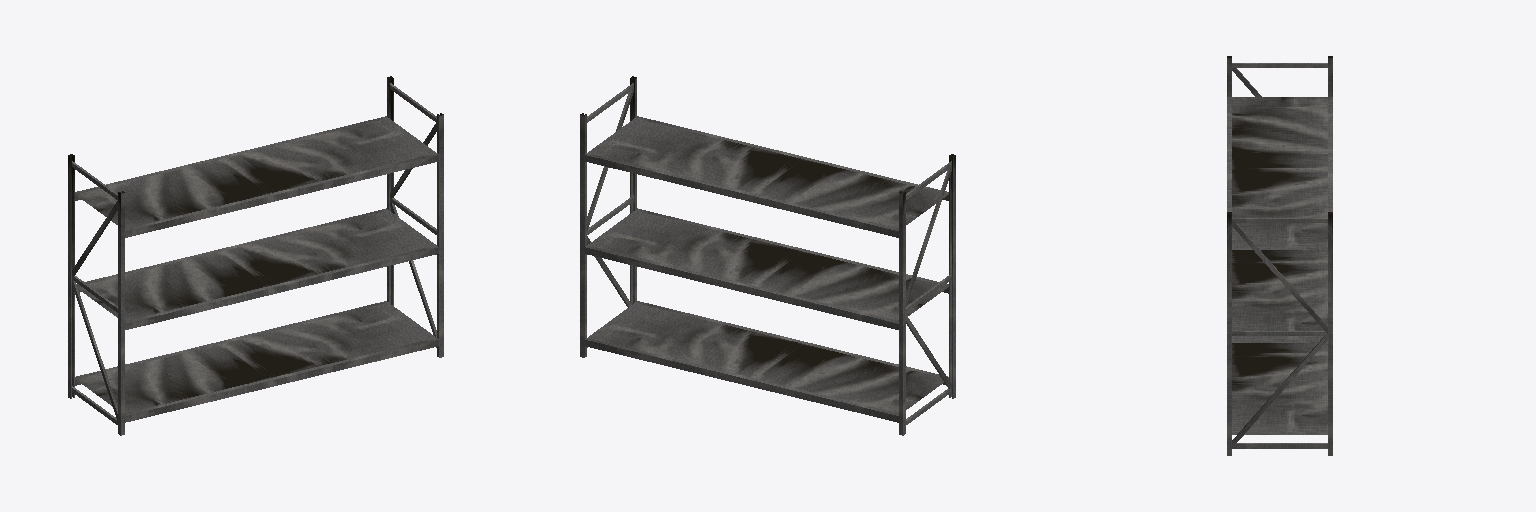
3 views of the same model, side by side, from view 1: azimuth 30°, elevation 25°; view 2: azimuth 150°, elevation 25°; view 3: azimuth 270°, elevation 25° (orthographic).
Visible parts, largest first — view 1: Shelf_WarehouseShelfMaterial_0; view 2: Shelf_WarehouseShelfMaterial_0; view 3: Shelf_WarehouseShelfMaterial_0.
Boxes of the visible parts, x1=… form: Shelf_WarehouseShelfMaterial_0: x1=68, y1=76, x2=443, y2=435; Shelf_WarehouseShelfMaterial_0: x1=580, y1=76, x2=955, y2=435; Shelf_WarehouseShelfMaterial_0: x1=1227, y1=56, x2=1332, y2=455.
Size of the model in its own units: 5.08 by 3.64 by 1.44.
Materials: 1 (1 with a texture image).